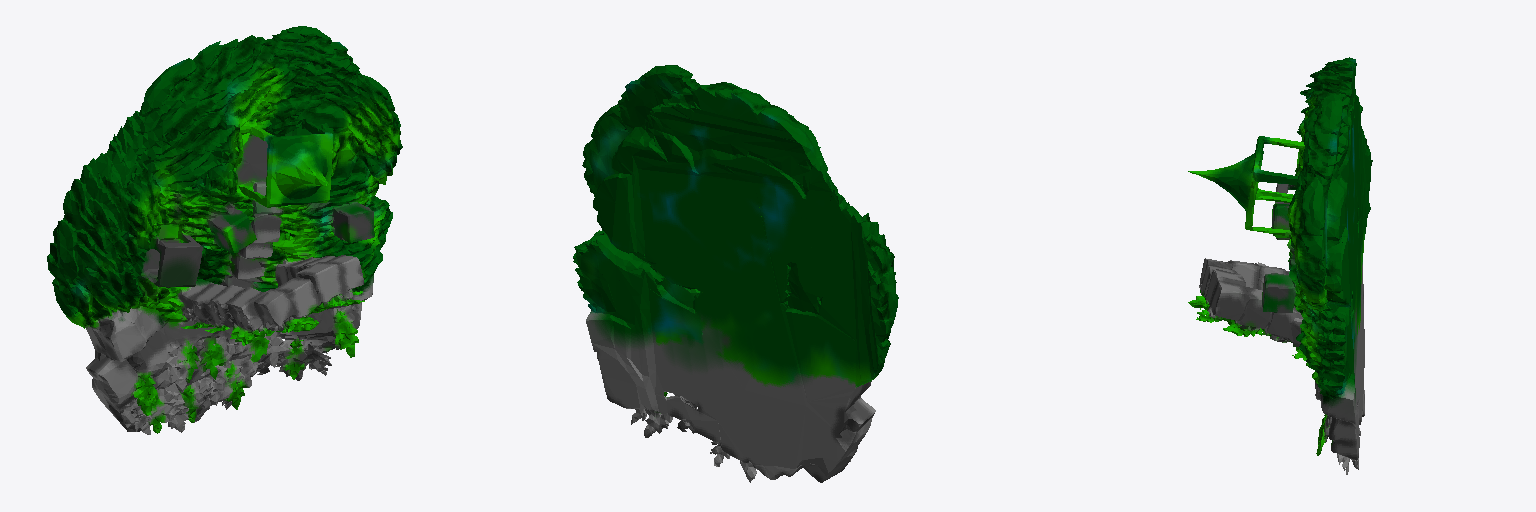
3 renders of one model, left to right at view 1: azimuth 30°, elevation 25°; view 2: azimuth 150°, elevation 25°; view 3: azimuth 270°, elevation 25°, orthographic.
Visible parts, largest first — view 1: Layer_2; view 2: Layer_2; view 3: Layer_2.
Part boxes in pixels (x1,y1,x2,y2): Layer_2: (47, 26, 402, 434); Layer_2: (573, 65, 898, 482); Layer_2: (1188, 57, 1372, 474).
Size of the model in its own units: 2.39 by 2.65 by 1.17.
1 materials, 1 textured.